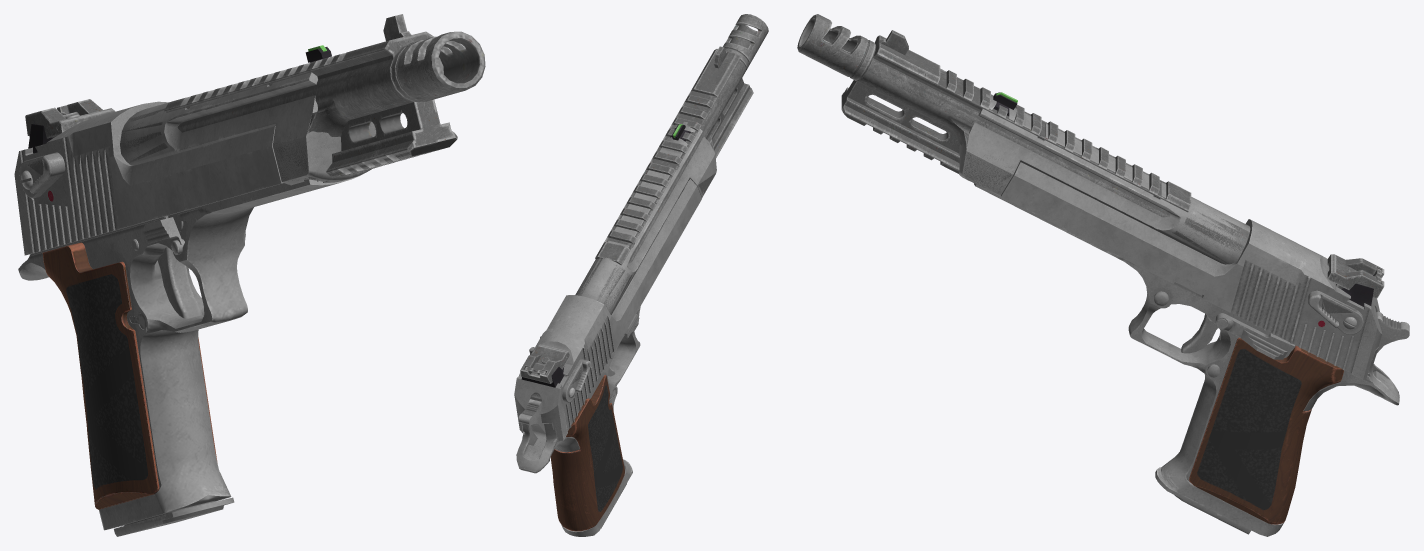
Rendered from mdlMagnumPickup Variant.fbx.
The picture shows the model from 3 angles, left to right: view 1: azimuth 30°, elevation 25°; view 2: azimuth 150°, elevation 25°; view 3: azimuth 270°, elevation 25°; orthographic projection. The views are drawn at different scales.
Visible parts, largest first — view 1: Model, 24_+Additions|Short Barrel.shortbar_0.4_0_0, 24_-Additions|Long Barrel.longbar_0.4_0_0; view 2: 24_+Additions|Short Barrel.shortbar_0.4_0_0, 24_-Additions|Long Barrel.longbar_0.4_0_0, Model; view 3: 24_+Additions|Short Barrel.shortbar_0.4_0_0, Model, 24_-Additions|Long Barrel.longbar_0.4_0_0.
Boxes of the visible parts, bbox=[...] form: Model: bbox=[18, 175, 360, 536]; 24_+Additions|Short Barrel.shortbar_0.4_0_0: bbox=[14, 45, 375, 255]; 24_-Additions|Long Barrel.longbar_0.4_0_0: bbox=[19, 14, 485, 196]; 24_+Additions|Short Barrel.shortbar_0.4_0_0: bbox=[514, 121, 716, 441]; 24_-Additions|Long Barrel.longbar_0.4_0_0: bbox=[520, 14, 768, 402]; Model: bbox=[516, 198, 678, 536]; 24_+Additions|Short Barrel.shortbar_0.4_0_0: bbox=[959, 92, 1382, 379]; Model: bbox=[974, 183, 1409, 536]; 24_-Additions|Long Barrel.longbar_0.4_0_0: bbox=[797, 14, 1384, 329].
Size of the model in its own units: 43.97 by 283 by 307.
